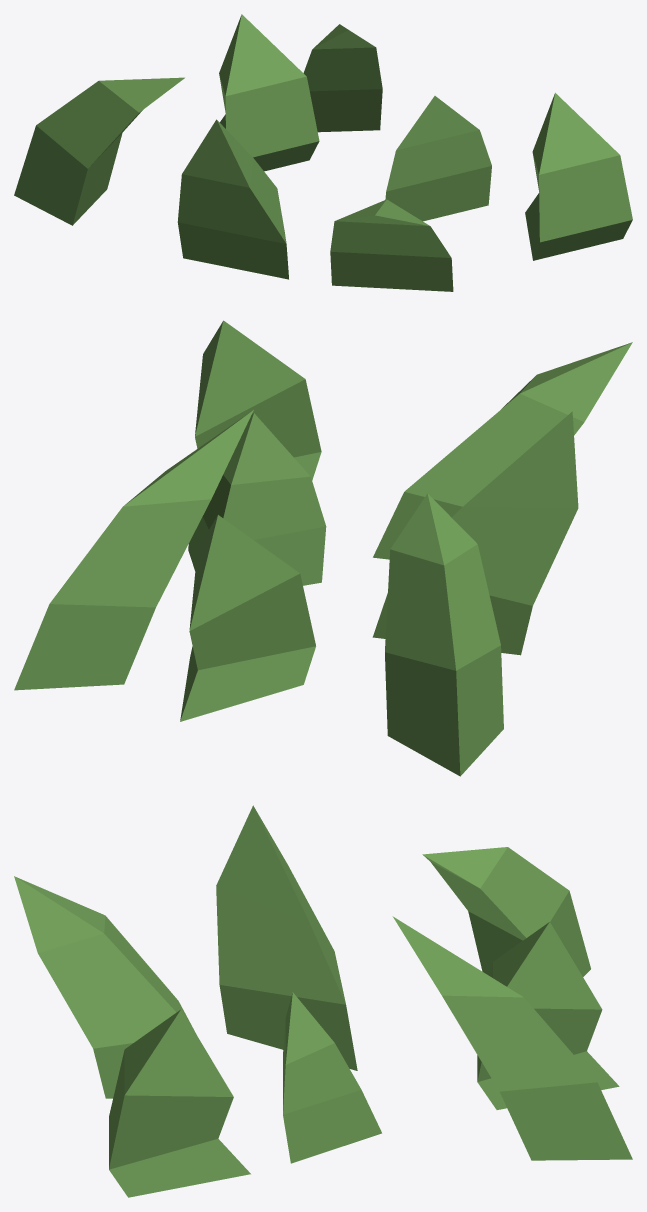
The model's file is Grass.fbx.
3 views of the same model, one above another, from view 1: azimuth 30°, elevation 25°; view 2: azimuth 150°, elevation 25°; view 3: azimuth 270°, elevation 25° (orthographic). The views are drawn at different scales.
Visible parts, largest first — view 1: GrassBunch1; view 2: GrassBunch1; view 3: GrassBunch1.
Part boxes in pixels (bbox=[...]): GrassBunch1: bbox=[14, 14, 632, 291]; GrassBunch1: bbox=[14, 320, 632, 776]; GrassBunch1: bbox=[14, 805, 632, 1197].
Size of the model in its own units: 70.57 by 25.38 by 62.75.
